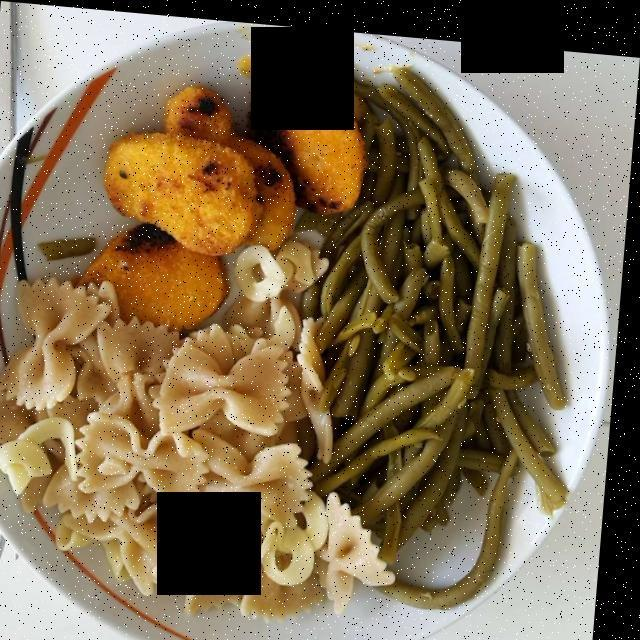beans: (296, 53, 572, 598)
chicken: (98, 44, 357, 310)
pasta: (0, 262, 407, 610)
